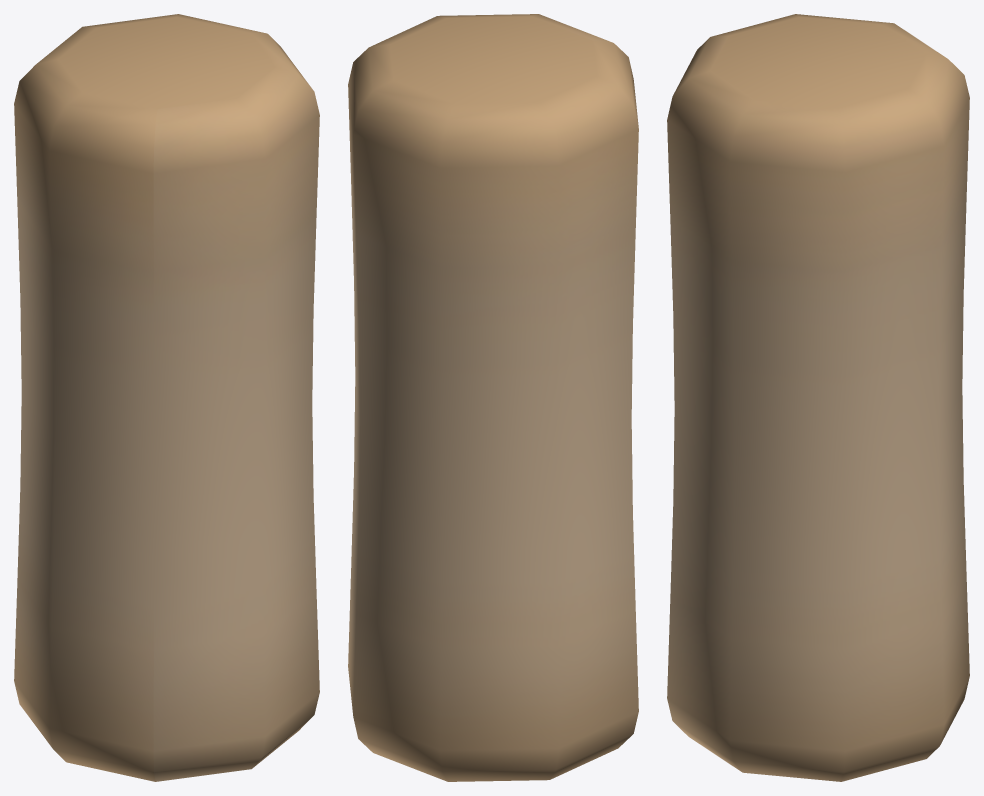
File: Wood_01.fbx
3 views of the same model, side by side, from view 1: azimuth 30°, elevation 25°; view 2: azimuth 150°, elevation 25°; view 3: azimuth 270°, elevation 25° (orthographic).
Parts seen in each view (by area): view 1: 柱体.020; view 2: 柱体.020; view 3: 柱体.020.
Part boxes in pixels (x1,y1,x2,y2): 柱体.020: [14, 14, 319, 781]; 柱体.020: [348, 14, 638, 781]; 柱体.020: [667, 14, 969, 781].
Size of the model in its own units: 24.95 by 60.98 by 24.95.
